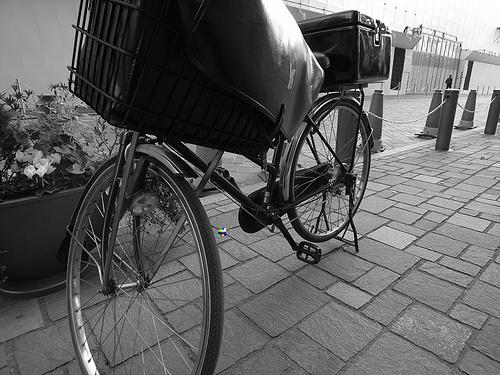car: (66, 89, 379, 375)
